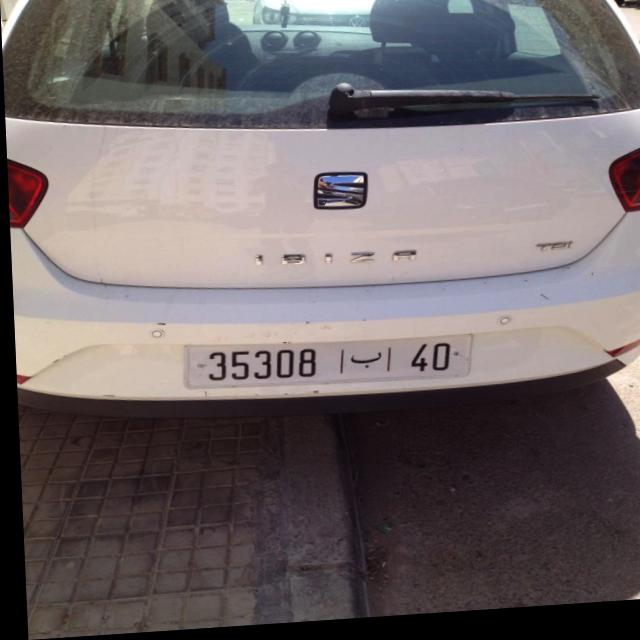License-Plate: (182, 341, 467, 391)
